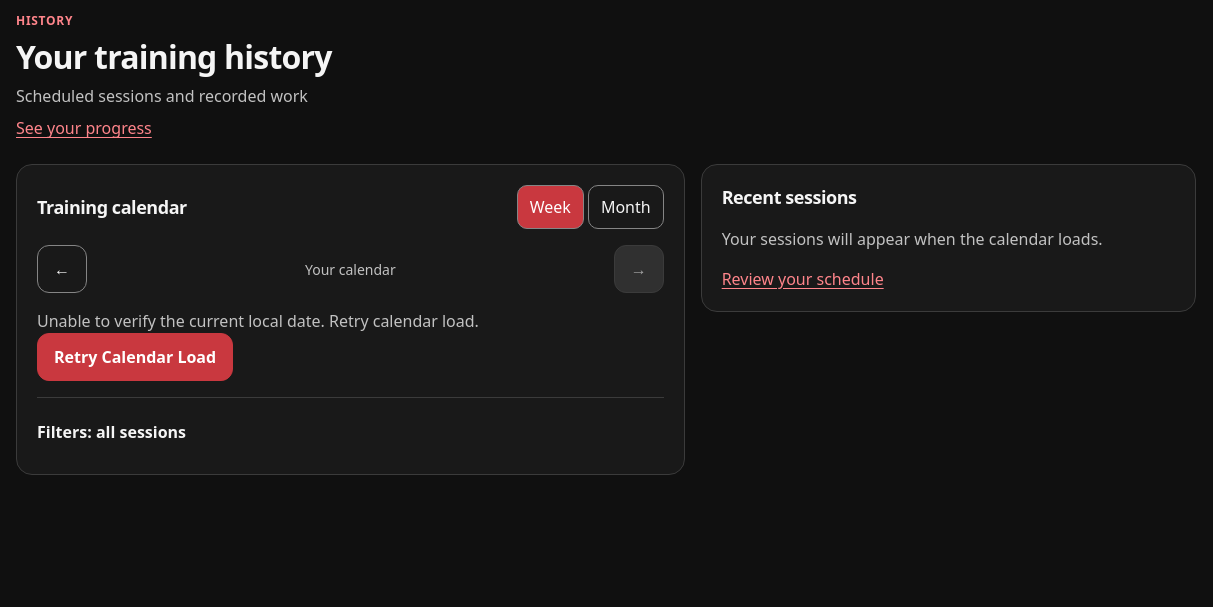
it: History sends no guessed calendar range when its server clock is unavailable and can retry
The width and height of the screenshot is (1213, 607).
Check: the text "Unable to verify the current local date. Retry calendar load." is shown, box [37, 310, 479, 332]
Click the button "Retry Calendar Load".
click(135, 357)  # box [37, 333, 233, 381]
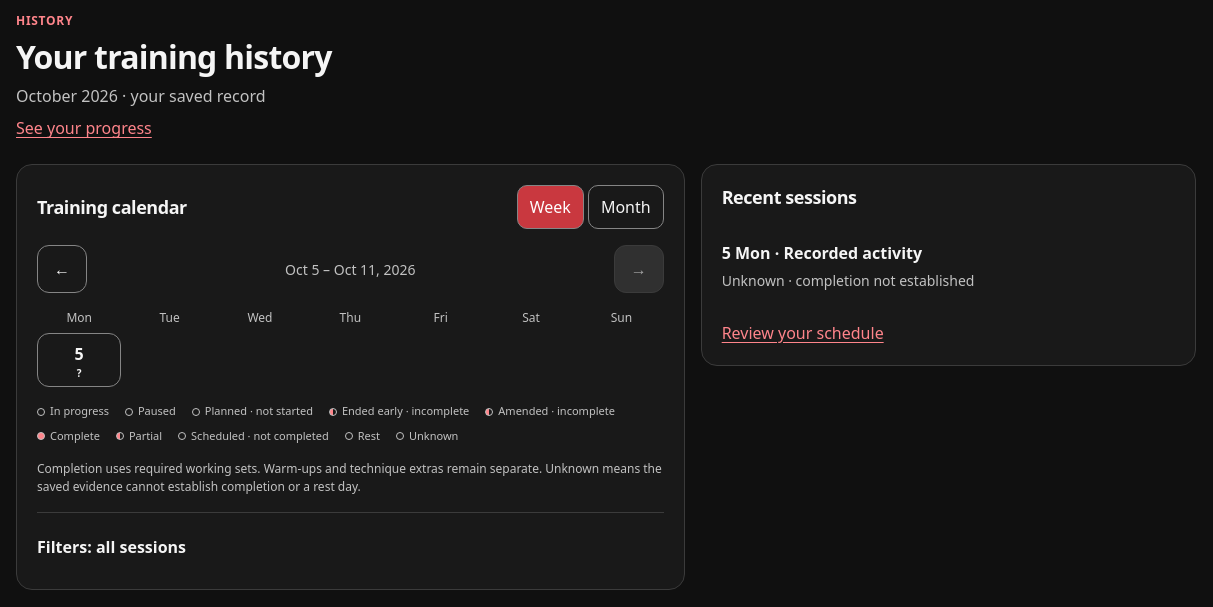
Check: the button named "2026-10-05: Unknown" is shown, box [37, 333, 121, 387]
